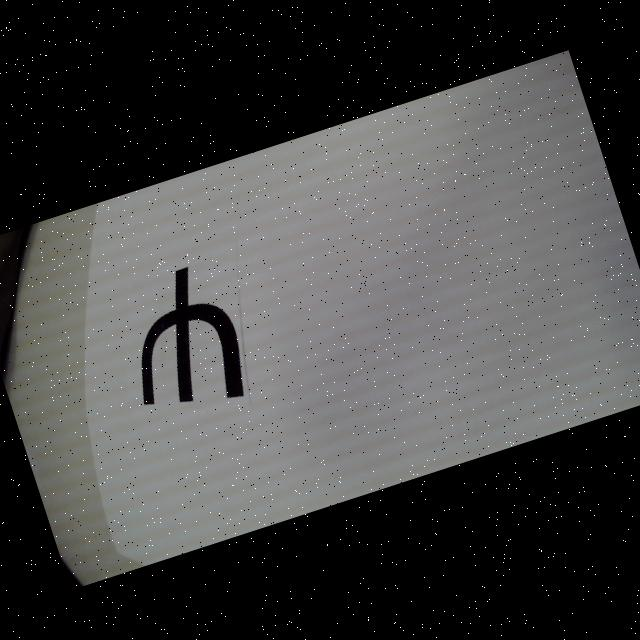PSI: (108, 257, 256, 426)
